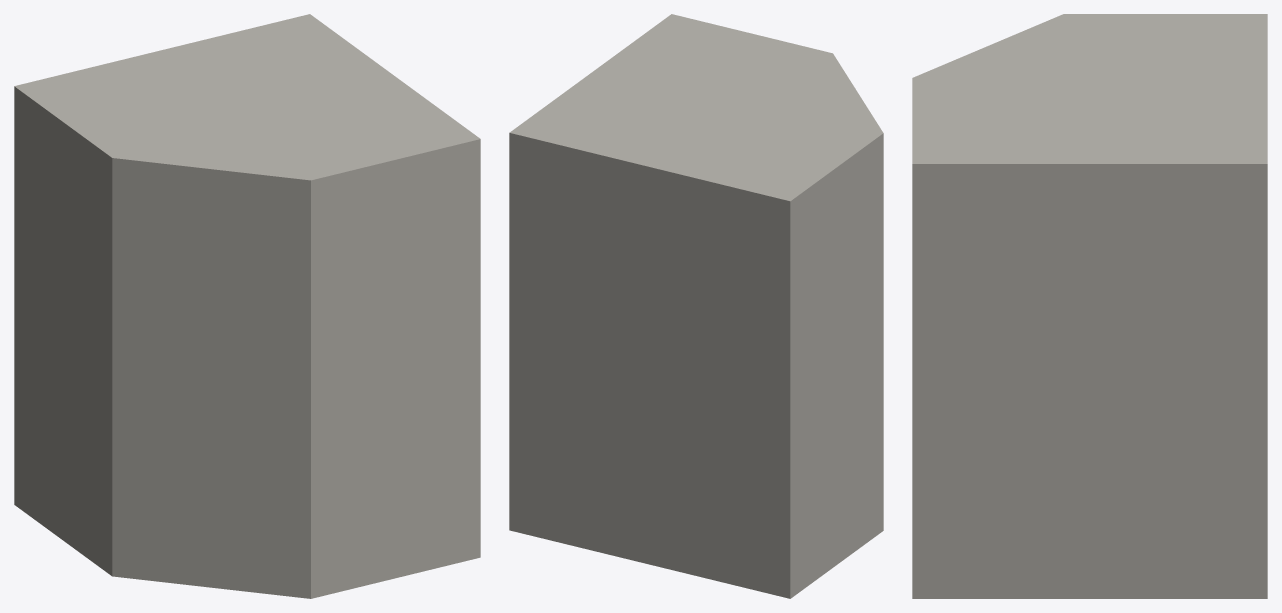
The model's file is SC_Gnd_Curb_Corner.gltf.
3 views of the same model, side by side, from view 1: azimuth 30°, elevation 25°; view 2: azimuth 150°, elevation 25°; view 3: azimuth 270°, elevation 25° (orthographic). The views are drawn at different scales.
Parts seen in each view (by area): view 1: SC_Gnd_Curb_Corner; view 2: SC_Gnd_Curb_Corner; view 3: SC_Gnd_Curb_Corner.
Part boxes in pixels (<box>): SC_Gnd_Curb_Corner: <box>14,14,480,598</box>; SC_Gnd_Curb_Corner: <box>509,14,883,598</box>; SC_Gnd_Curb_Corner: <box>912,14,1267,598</box>.
Size of the model in its own units: 0.27 by 0.365 by 0.27.
Materials: 1 (1 with a texture image).
